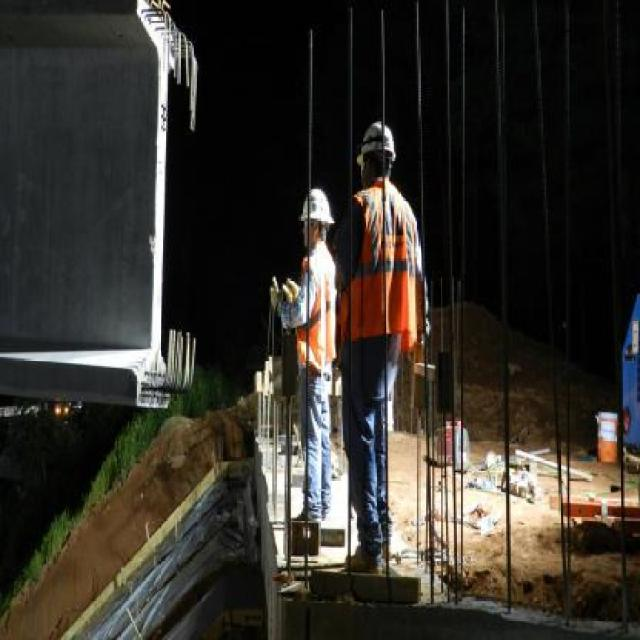Person: (340, 98, 422, 572), (270, 189, 336, 523)
